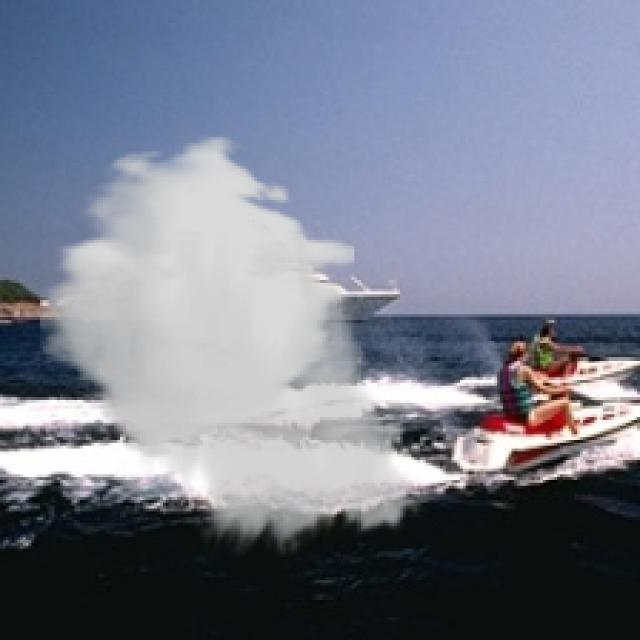Smoke: (40, 134, 429, 557)
